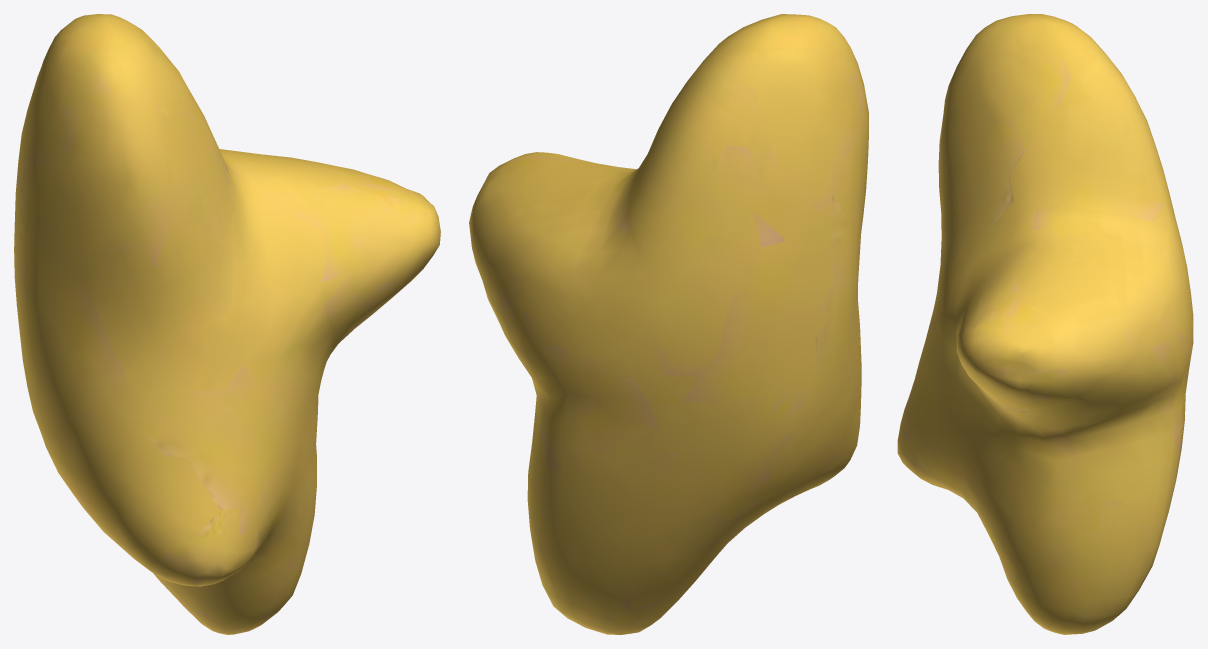
The model's file is face_star.glb.
3 views of the same model, side by side, from view 1: azimuth 30°, elevation 25°; view 2: azimuth 150°, elevation 25°; view 3: azimuth 270°, elevation 25° (orthographic). The views are drawn at different scales.
Size of the model in its own units: 0.4113 by 0.6698 by 0.3255.
Materials: 1 (1 with a texture image).
